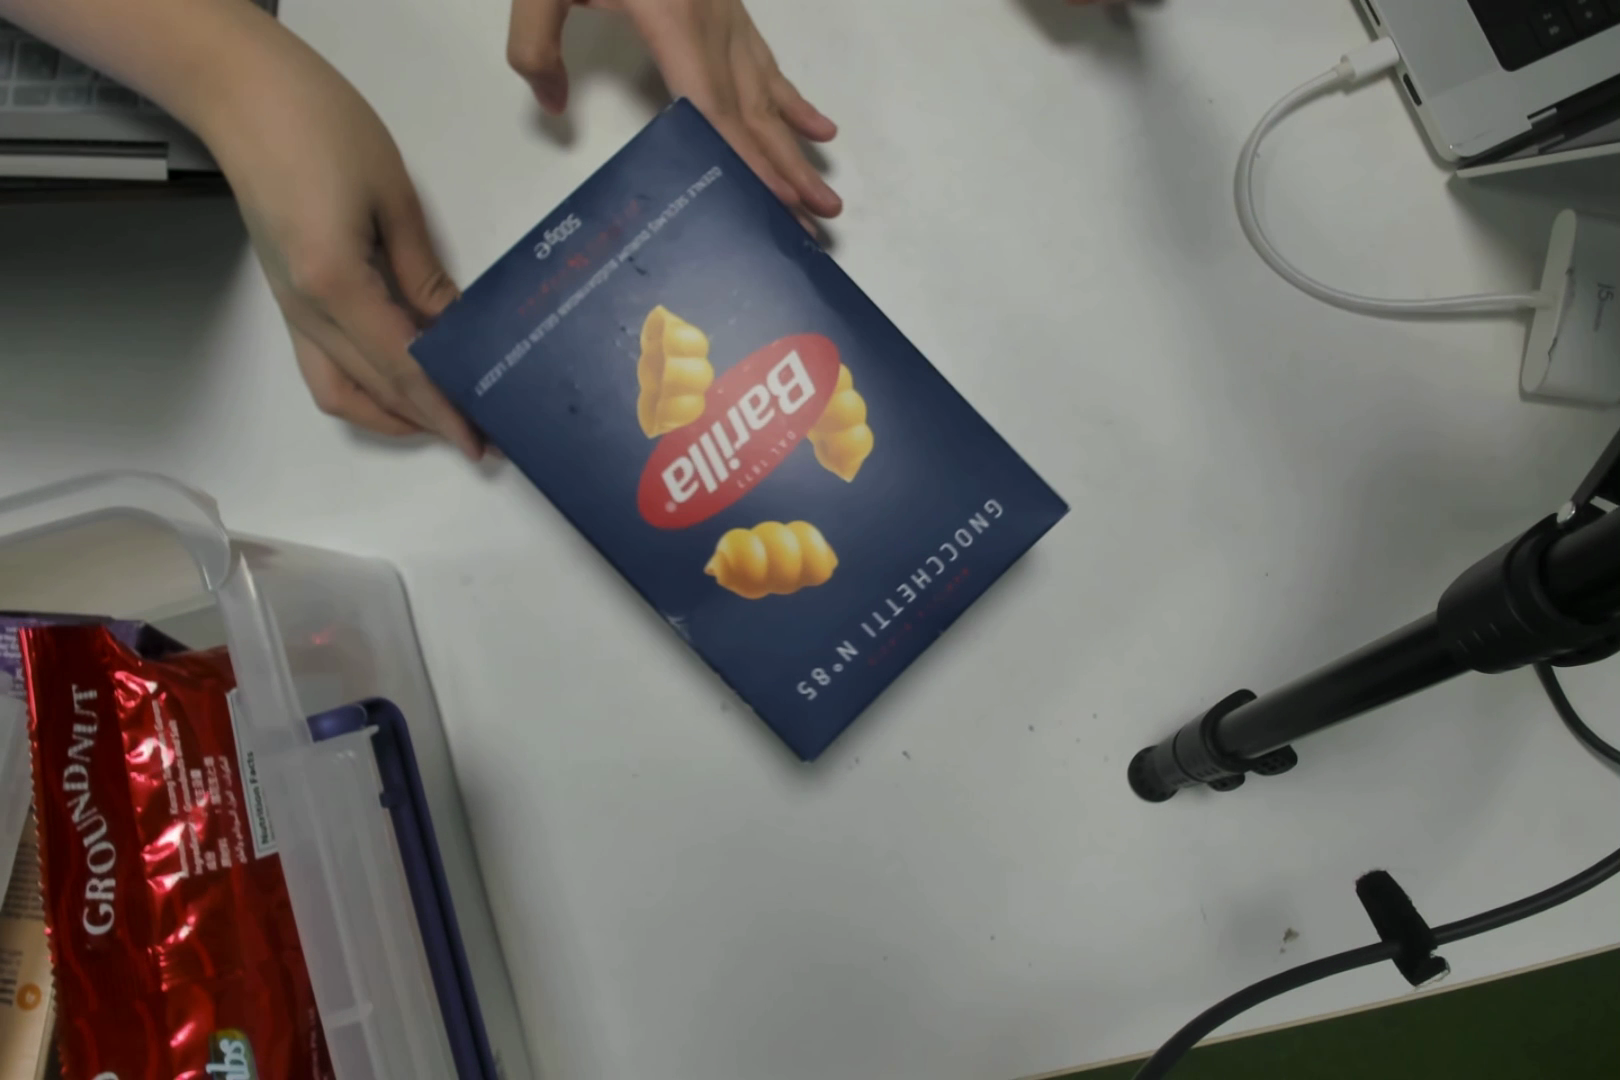Pasta_500-599g_NonHalal_NonHealthy: (551, 204, 1029, 730)
